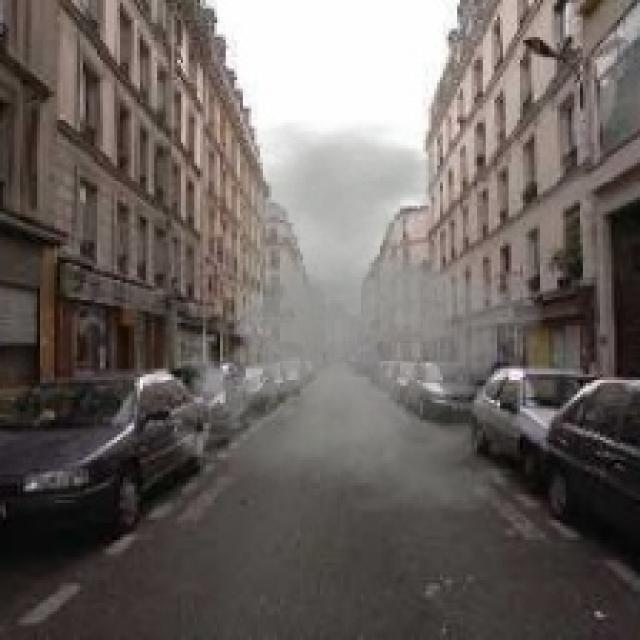Smoke: (157, 120, 560, 512)
